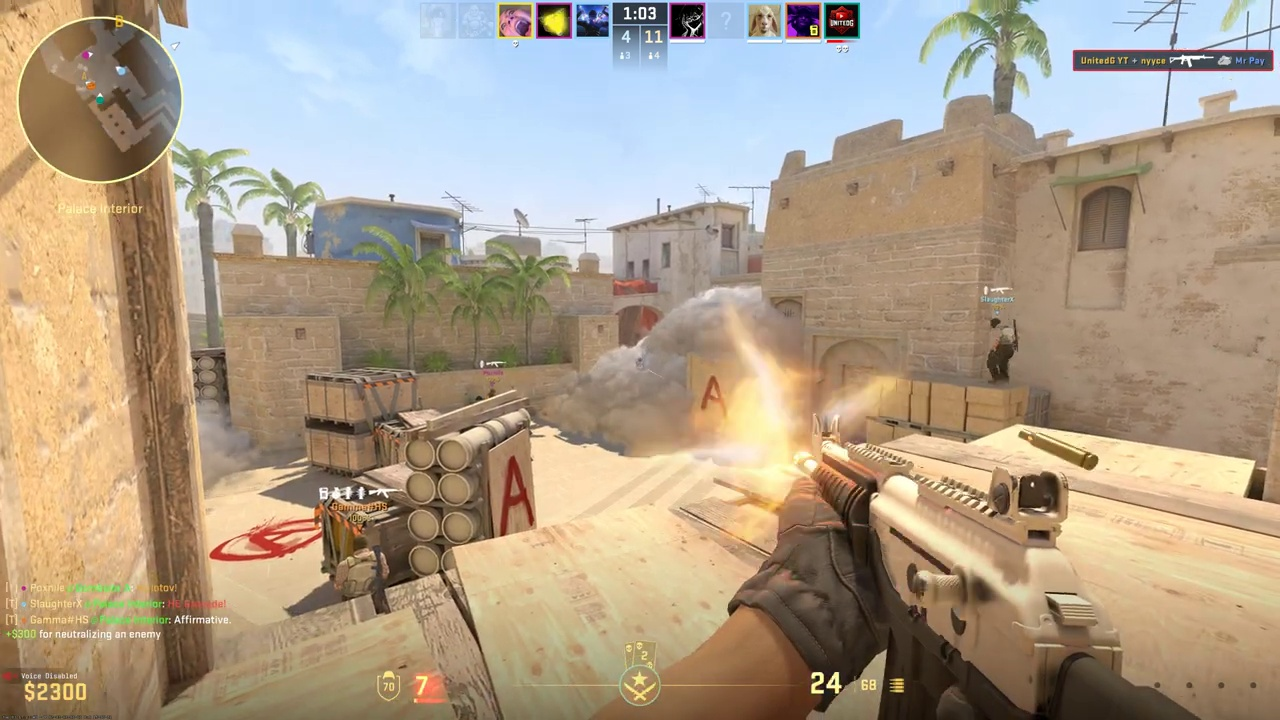Terrorist: (341, 537, 387, 604), (986, 318, 1015, 383)
